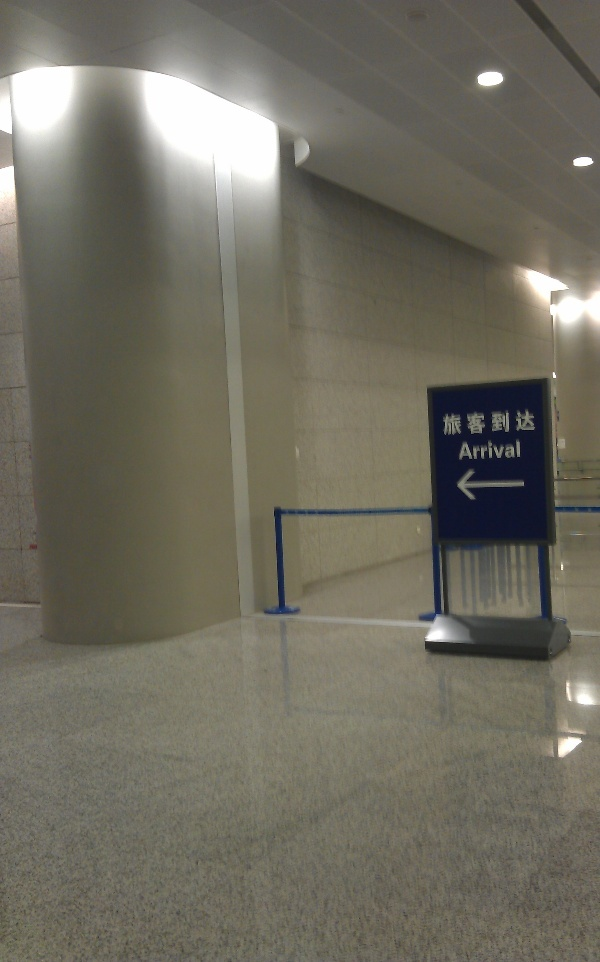text: (449, 409, 464, 437), (465, 409, 480, 437), (481, 409, 496, 437), (497, 409, 512, 437), (513, 409, 528, 437), (465, 438, 480, 461), (481, 438, 496, 461), (497, 438, 512, 461), (529, 409, 537, 437), (513, 438, 522, 461), (442, 409, 448, 437), (459, 438, 464, 461)
